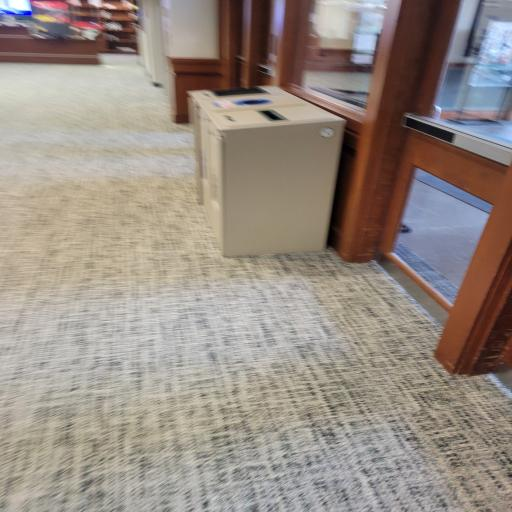trash cans: (181, 78, 364, 260)
